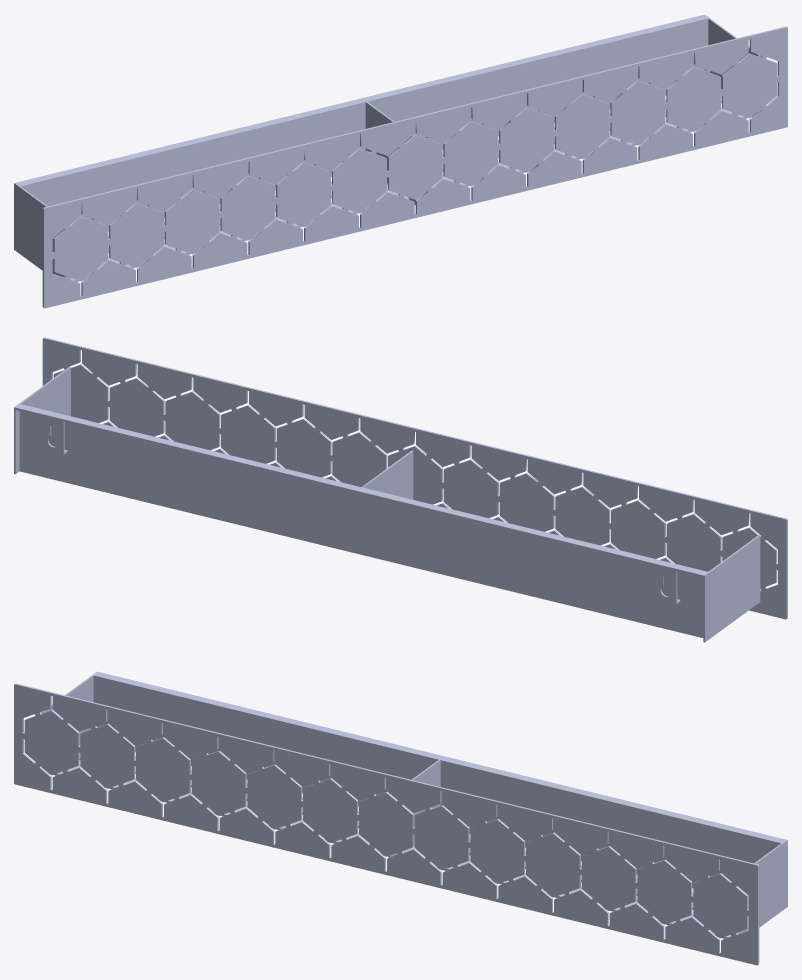
The model's file is bee-mono.5a04d6b581.glb.
3 views of the same model, one above another, from view 1: azimuth 30°, elevation 25°; view 2: azimuth 150°, elevation 25°; view 3: azimuth 330°, elevation 25° (orthographic).
Parts seen in each view (by area): view 1: NAUO1; view 2: NAUO1; view 3: NAUO1.
Boxes of the visible parts, x1=… form: NAUO1: x1=14, y1=14, x2=787, y2=308; NAUO1: x1=14, y1=337, x2=787, y2=642; NAUO1: x1=14, y1=671, x2=787, y2=965.
Size of the model in its own units: 0.7 by 0.09 by 0.092.
